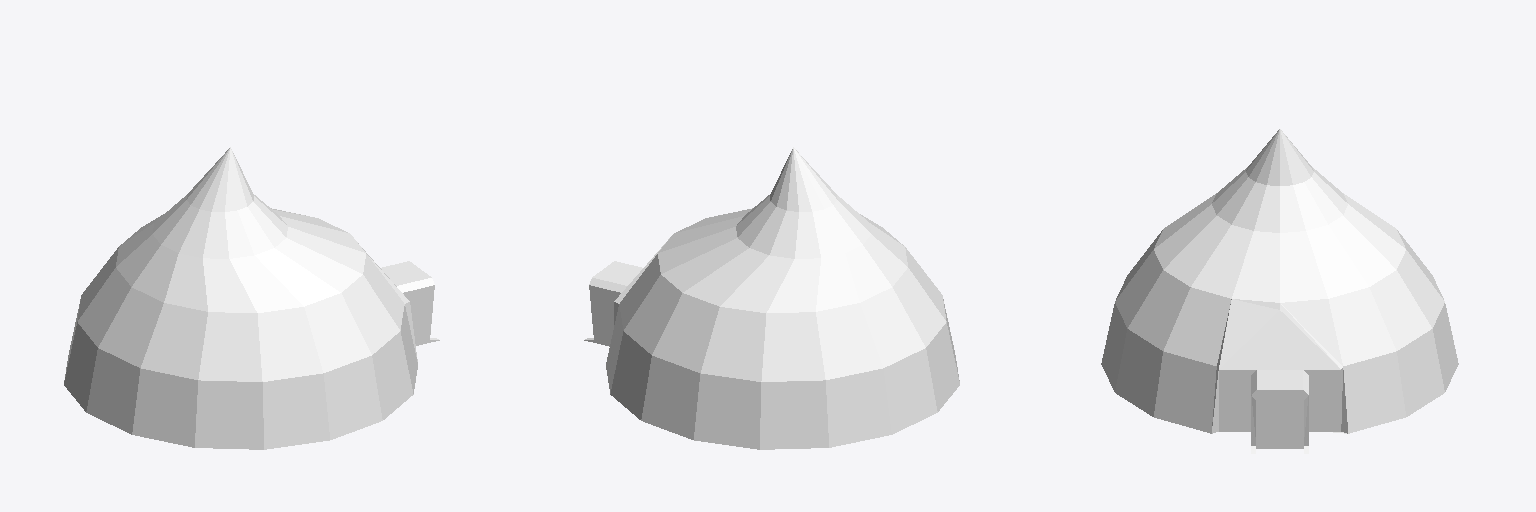
The model's file is House.obj.
3 views of the same model, side by side, from view 1: azimuth 30°, elevation 25°; view 2: azimuth 150°, elevation 25°; view 3: azimuth 270°, elevation 25° (orthographic).
Visible parts, largest first — view 1: House; view 2: House; view 3: House.
Boxes of the visible parts, box(x1,y1,x2,y2) form: House: box(64, 147, 439, 449); House: box(584, 147, 959, 449); House: box(1101, 129, 1458, 453).
Size of the model in its own units: 21.92 by 14.22 by 19.98.